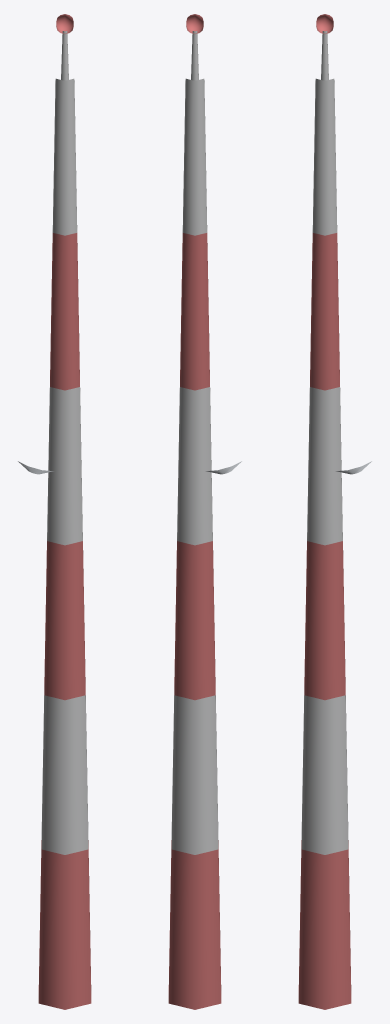
Rendered from radio-tower.glb.
3 renders of one model, left to right at view 1: azimuth 30°, elevation 25°; view 2: azimuth 150°, elevation 25°; view 3: azimuth 330°, elevation 25°, orthographic.
Visible parts, largest first — view 1: Root; view 2: Root; view 3: Root.
Boxes of the visible parts, x1,y1,x2,y2 form: Root: (18, 14, 91, 1009); Root: (168, 14, 241, 1009); Root: (298, 14, 371, 1009).
Size of the model in its own units: 3.25 by 32 by 1.55.
